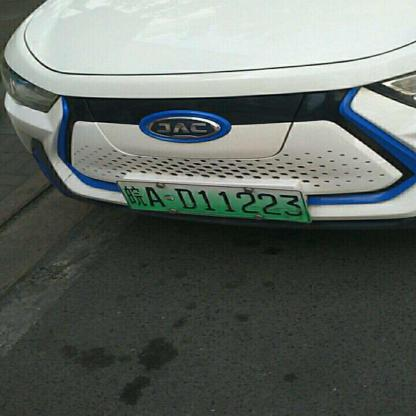lp: (117, 181, 307, 222)
